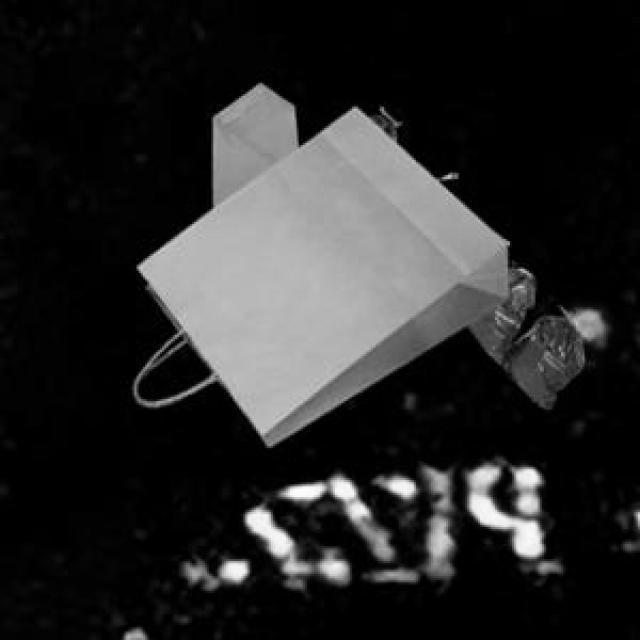miscellaneous trash: (365, 111, 580, 405)
paper: (132, 102, 504, 442)
